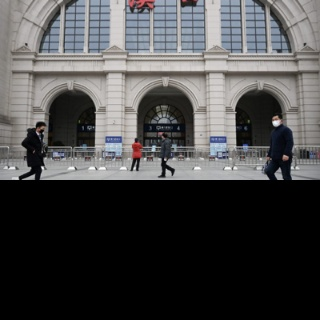with_mask: (272, 116, 282, 127), (39, 126, 46, 134)
